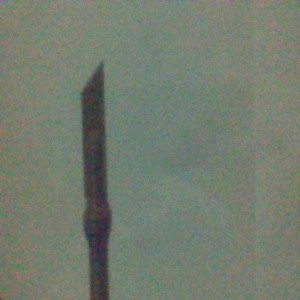cutter: (78, 59, 113, 300)
